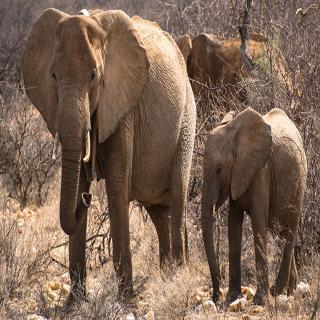Elephant: (20, 6, 199, 306), (198, 101, 309, 308)
